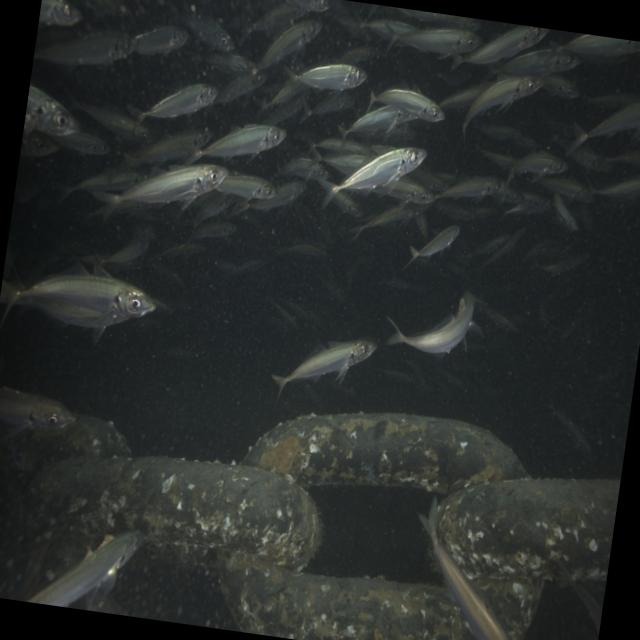ChainLink: (27, 457, 320, 569), (244, 413, 527, 495), (220, 564, 476, 640), (437, 479, 621, 581), (8, 415, 131, 472), (22, 521, 106, 599), (483, 581, 543, 640)
